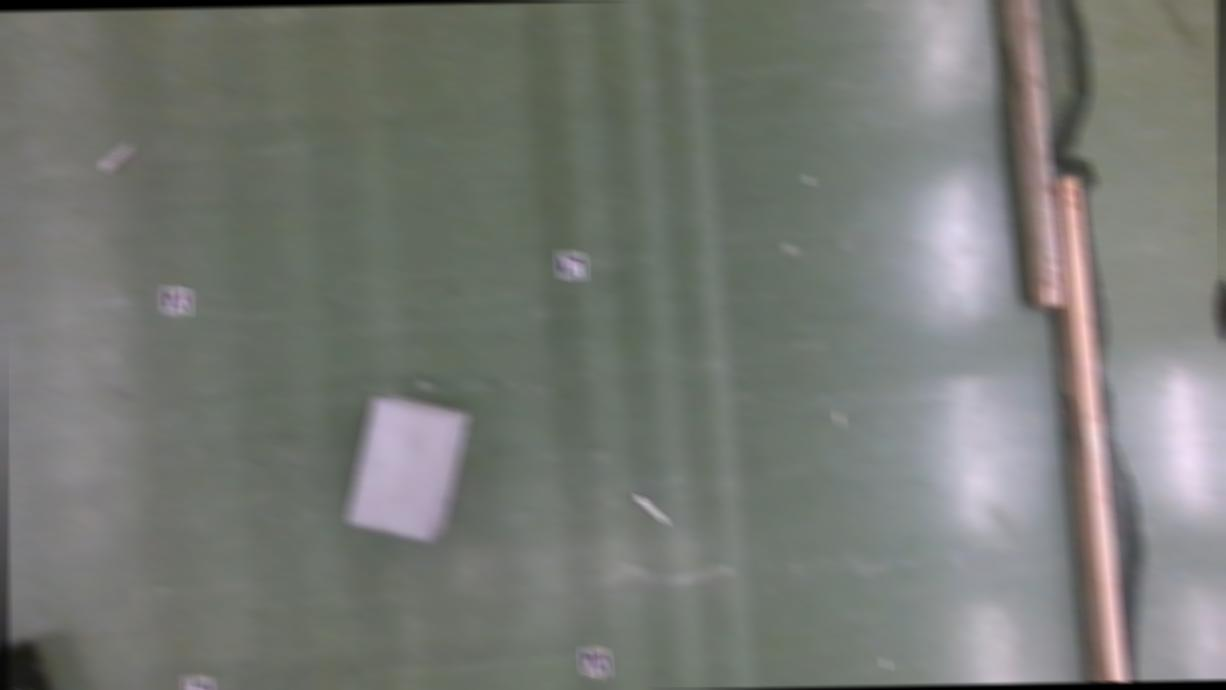probes: (100, 140, 136, 174), (636, 493, 667, 526)
rako: (344, 394, 472, 546)
